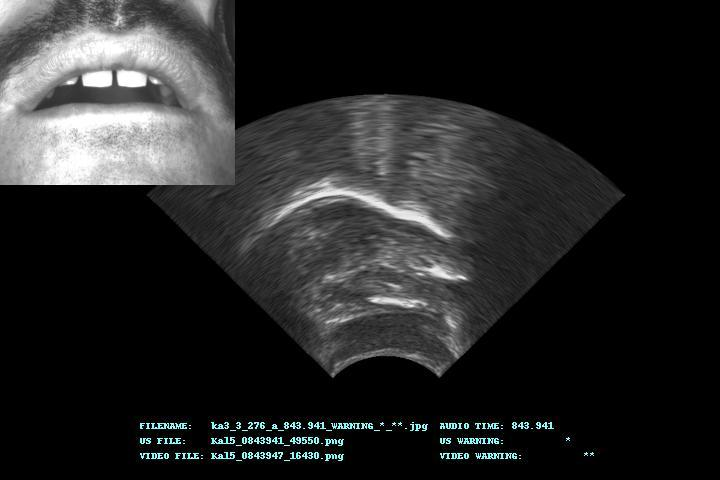-a-: (150, 96, 623, 377)
